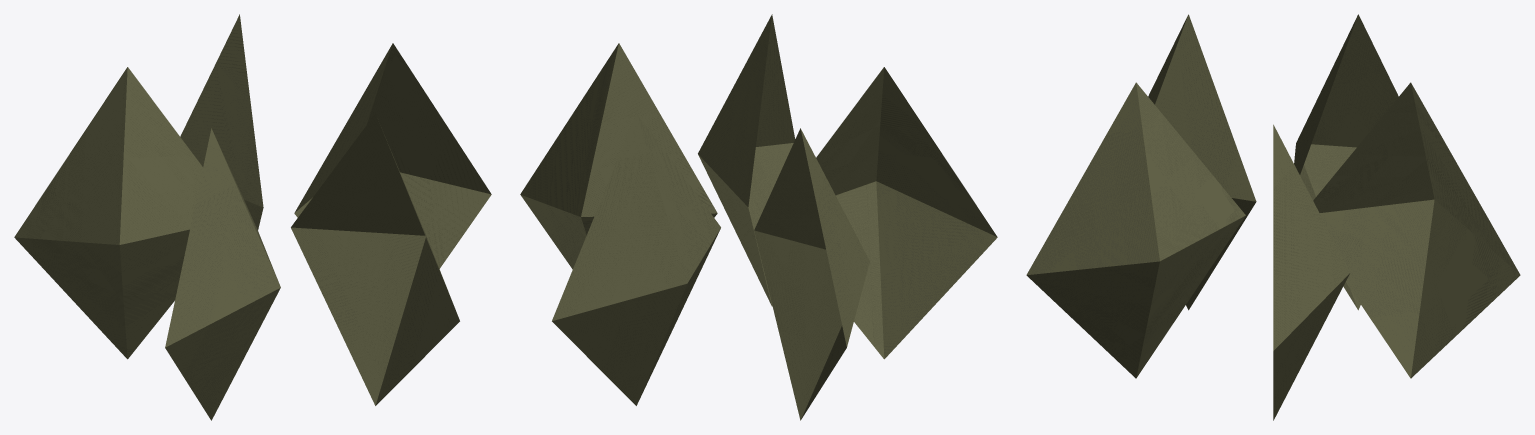
The model's file is strange_empty_husk.glb.
3 views of the same model, side by side, from view 1: azimuth 30°, elevation 25°; view 2: azimuth 150°, elevation 25°; view 3: azimuth 270°, elevation 25° (orthographic).
Parts seen in each view (by area): view 1: strange_empty_husk; view 2: strange_empty_husk; view 3: strange_empty_husk.
Part boxes in pixels (left/top/right/bottom): strange_empty_husk: left=14, top=14, right=491, bottom=420; strange_empty_husk: left=520, top=14, right=997, bottom=420; strange_empty_husk: left=1026, top=14, right=1520, bottom=420.
Size of the model in its own units: 0.4884 by 0.34 by 0.5136.
